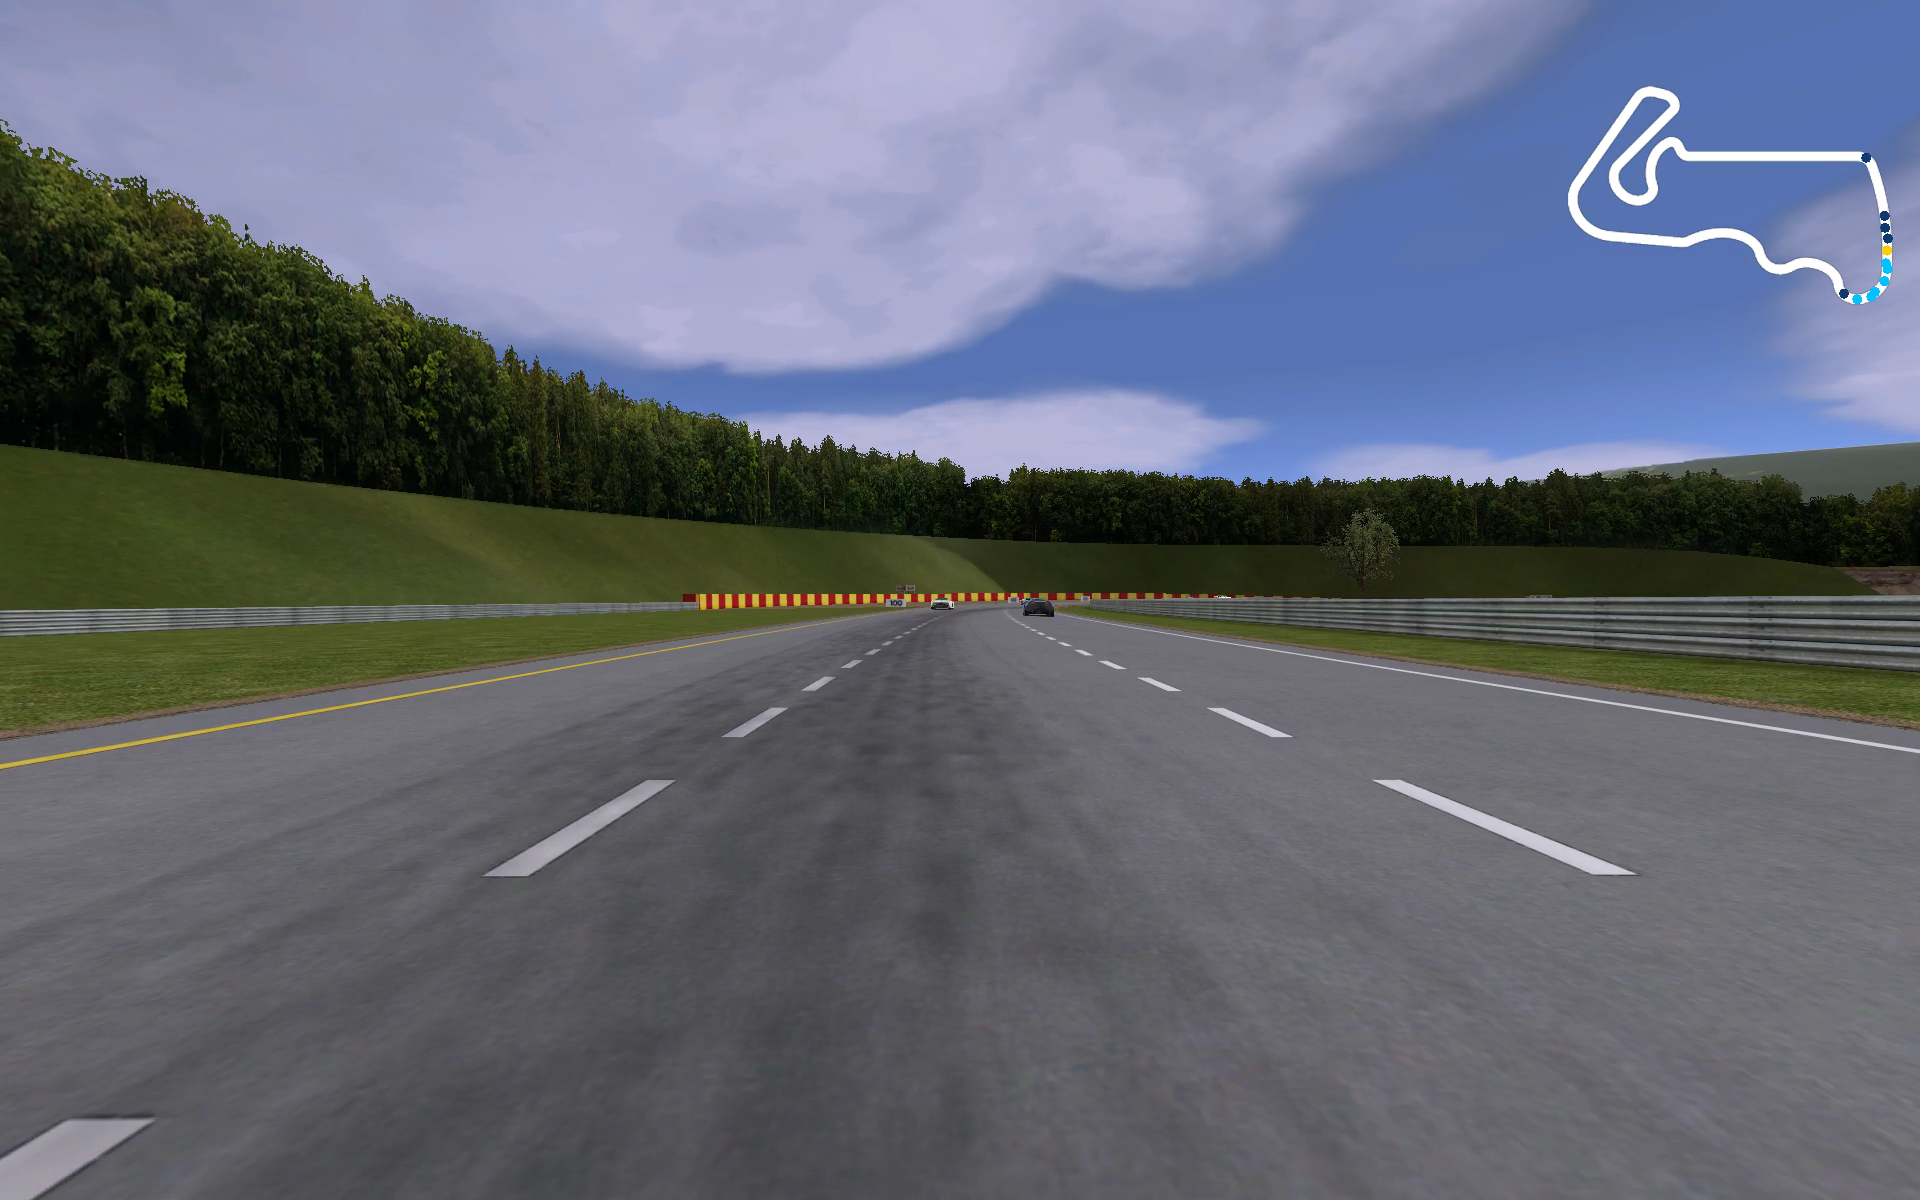car: (1022, 596, 1057, 621), (928, 596, 957, 612)
